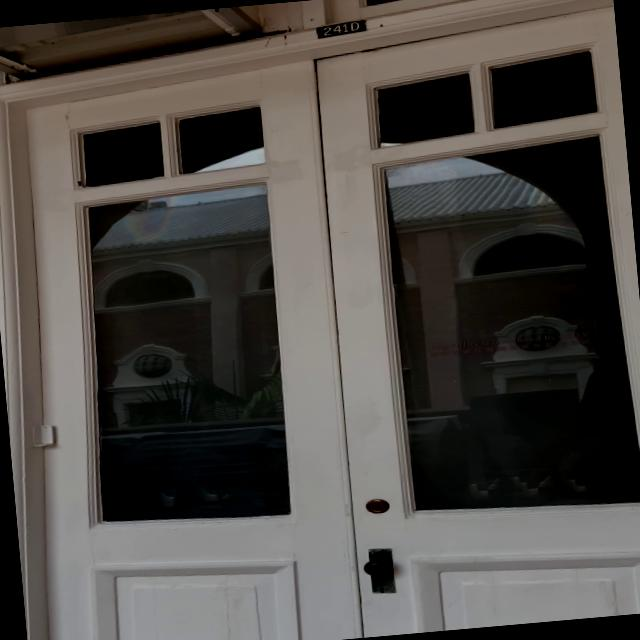room241d: (314, 18, 366, 40)
